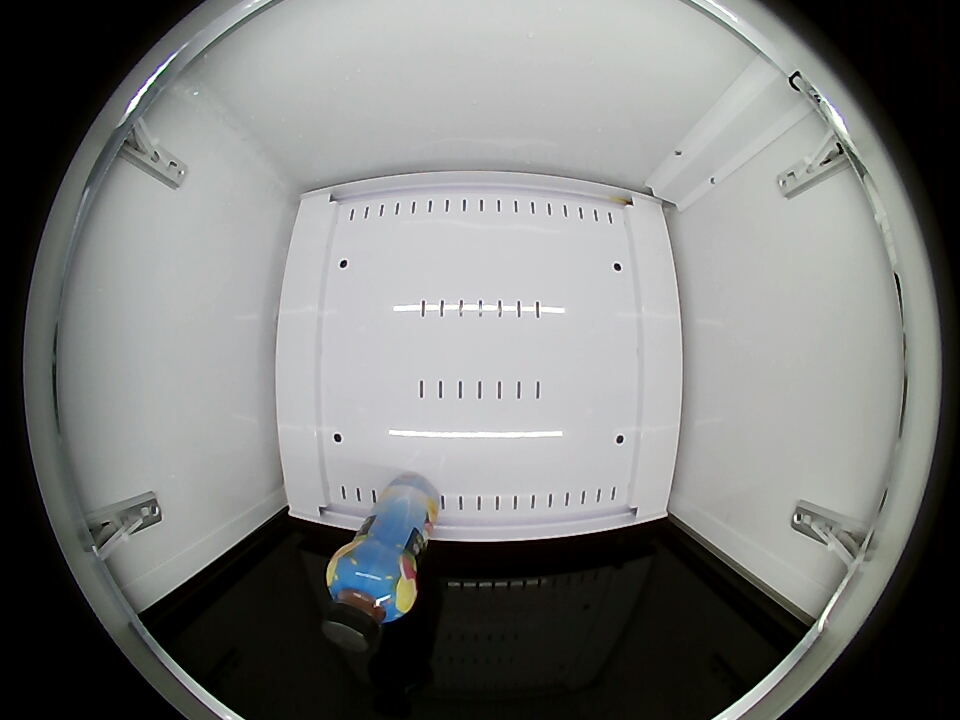guolicheng2: (323, 548, 416, 650)
